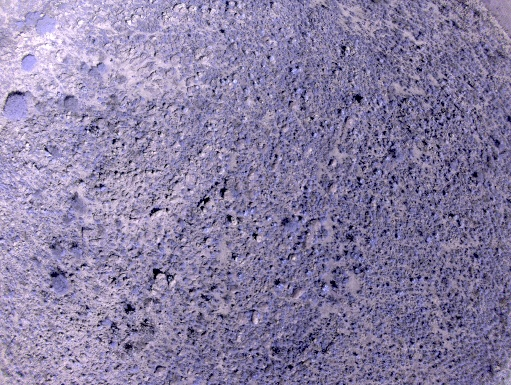agave: (57, 248, 69, 260), (101, 316, 113, 328), (366, 236, 379, 246), (248, 204, 259, 215), (320, 282, 330, 294), (336, 106, 348, 116), (303, 268, 314, 278), (423, 235, 434, 245), (319, 215, 329, 225), (274, 283, 285, 292), (281, 189, 292, 198), (373, 130, 383, 139), (298, 231, 307, 241), (373, 169, 384, 177), (395, 289, 405, 297), (382, 154, 392, 162), (156, 247, 166, 255), (265, 214, 273, 223), (294, 86, 303, 94), (352, 266, 361, 274), (356, 253, 365, 261), (310, 131, 320, 138), (257, 256, 265, 264), (377, 203, 385, 211), (268, 54, 276, 62), (237, 271, 245, 279), (395, 232, 403, 240), (431, 211, 439, 219), (358, 177, 367, 184), (280, 259, 289, 266), (110, 341, 117, 350), (225, 272, 235, 278), (417, 276, 425, 283), (163, 233, 171, 240), (410, 277, 417, 285), (67, 207, 76, 213), (258, 174, 265, 181), (257, 226, 263, 234), (305, 187, 313, 193), (305, 250, 312, 256), (182, 277, 189, 283), (160, 240, 167, 246), (355, 354, 361, 361), (172, 328, 180, 333), (238, 225, 244, 231), (352, 252, 358, 258), (349, 250, 354, 257)
